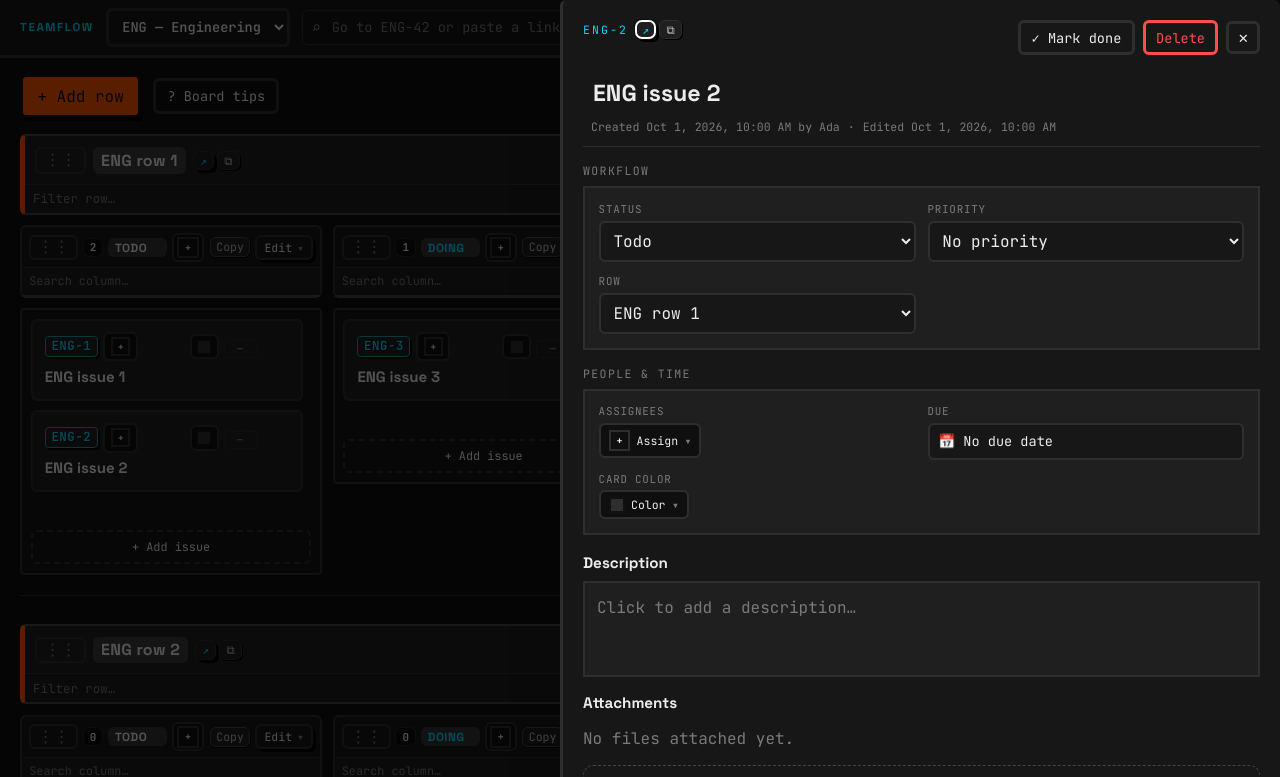
Scenario: selected issue › updates the card when the drawer saves, from the same cached issue
This screenshot has width=1280, height=777.
Type " edited" into the field named "Issue title". click: (922, 93)
box: [583, 71, 1260, 115]
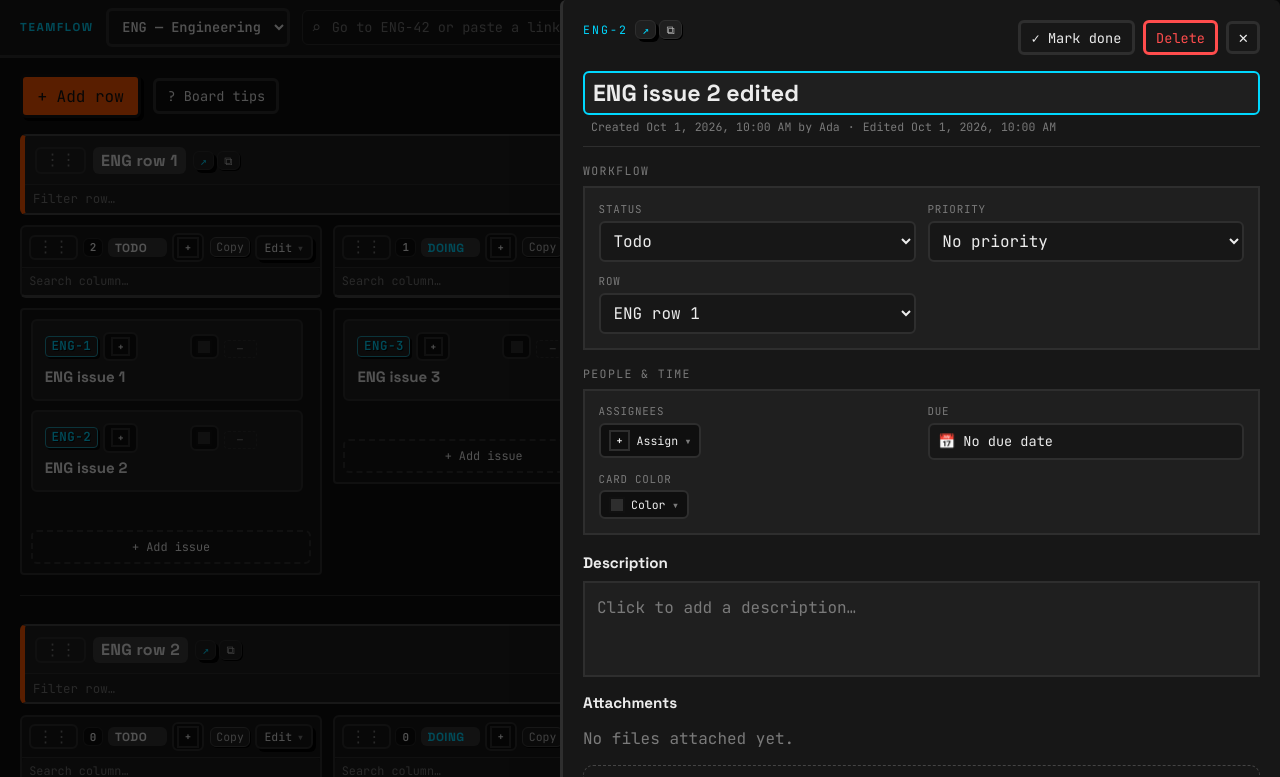
Press Tab
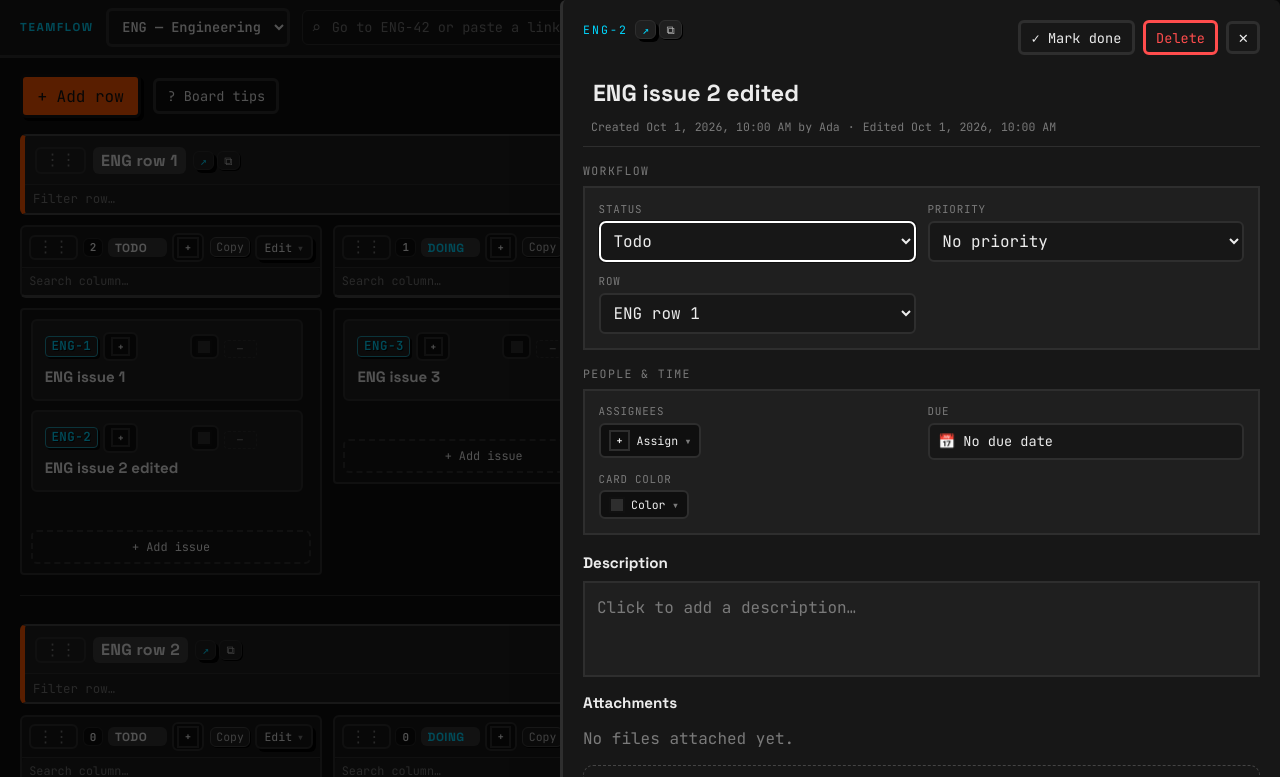
Now the heading "ENG issue 2 edited" is shown, box [45, 458, 289, 479]
